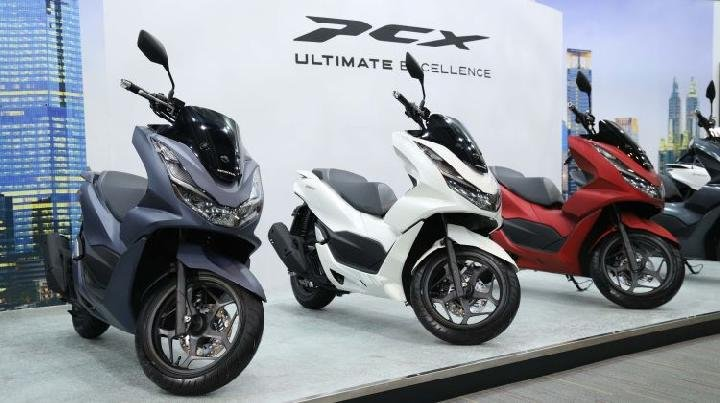motor: (67, 100, 274, 391), (280, 94, 513, 352), (518, 94, 679, 316)
